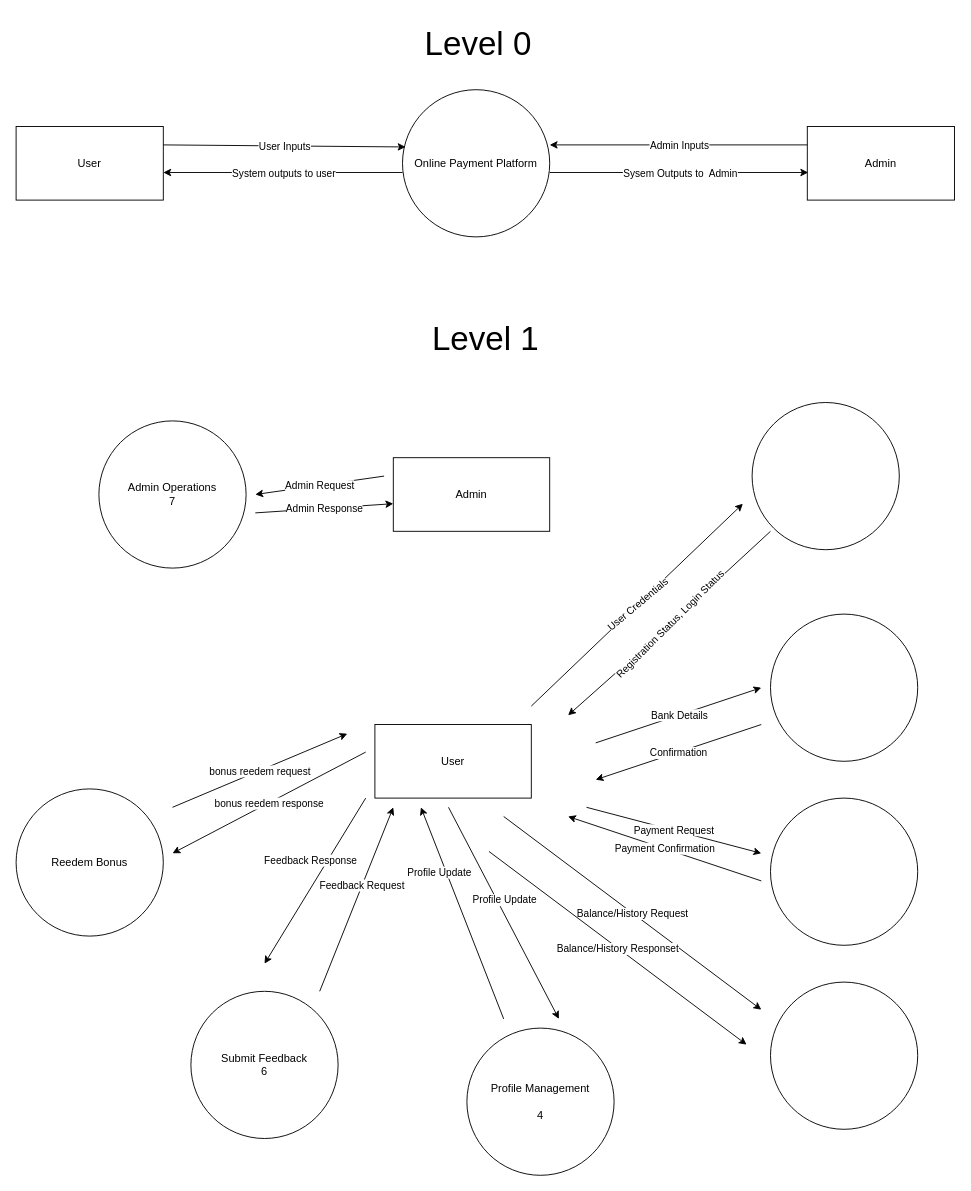
Image size: 971x1191. Some labels were removed from this diagram. Each missing label, with the box of its shape:
Bank Account Management 1: (770, 613, 918, 761)
Make Payment 2: (770, 797, 918, 945)
Register & LogIn 0: (751, 402, 899, 550)
Transaction Management 3: (770, 981, 918, 1129)
